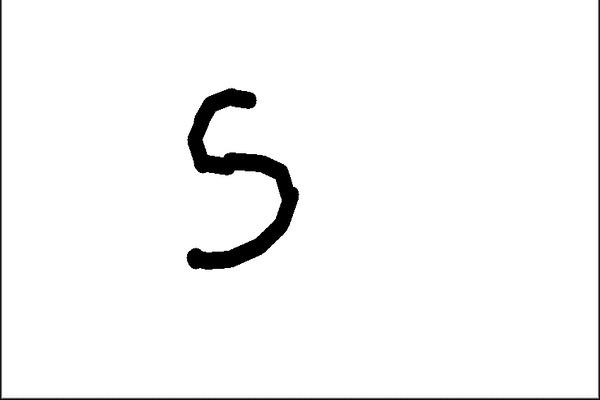S: (176, 82, 307, 272)
